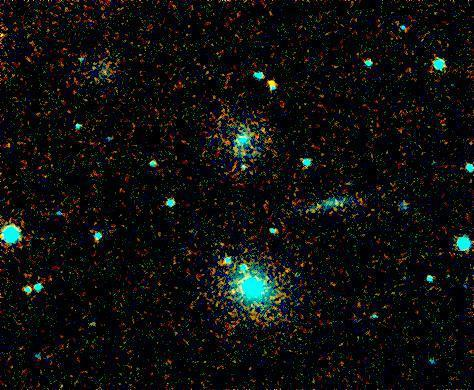star: (256, 69, 286, 99)
